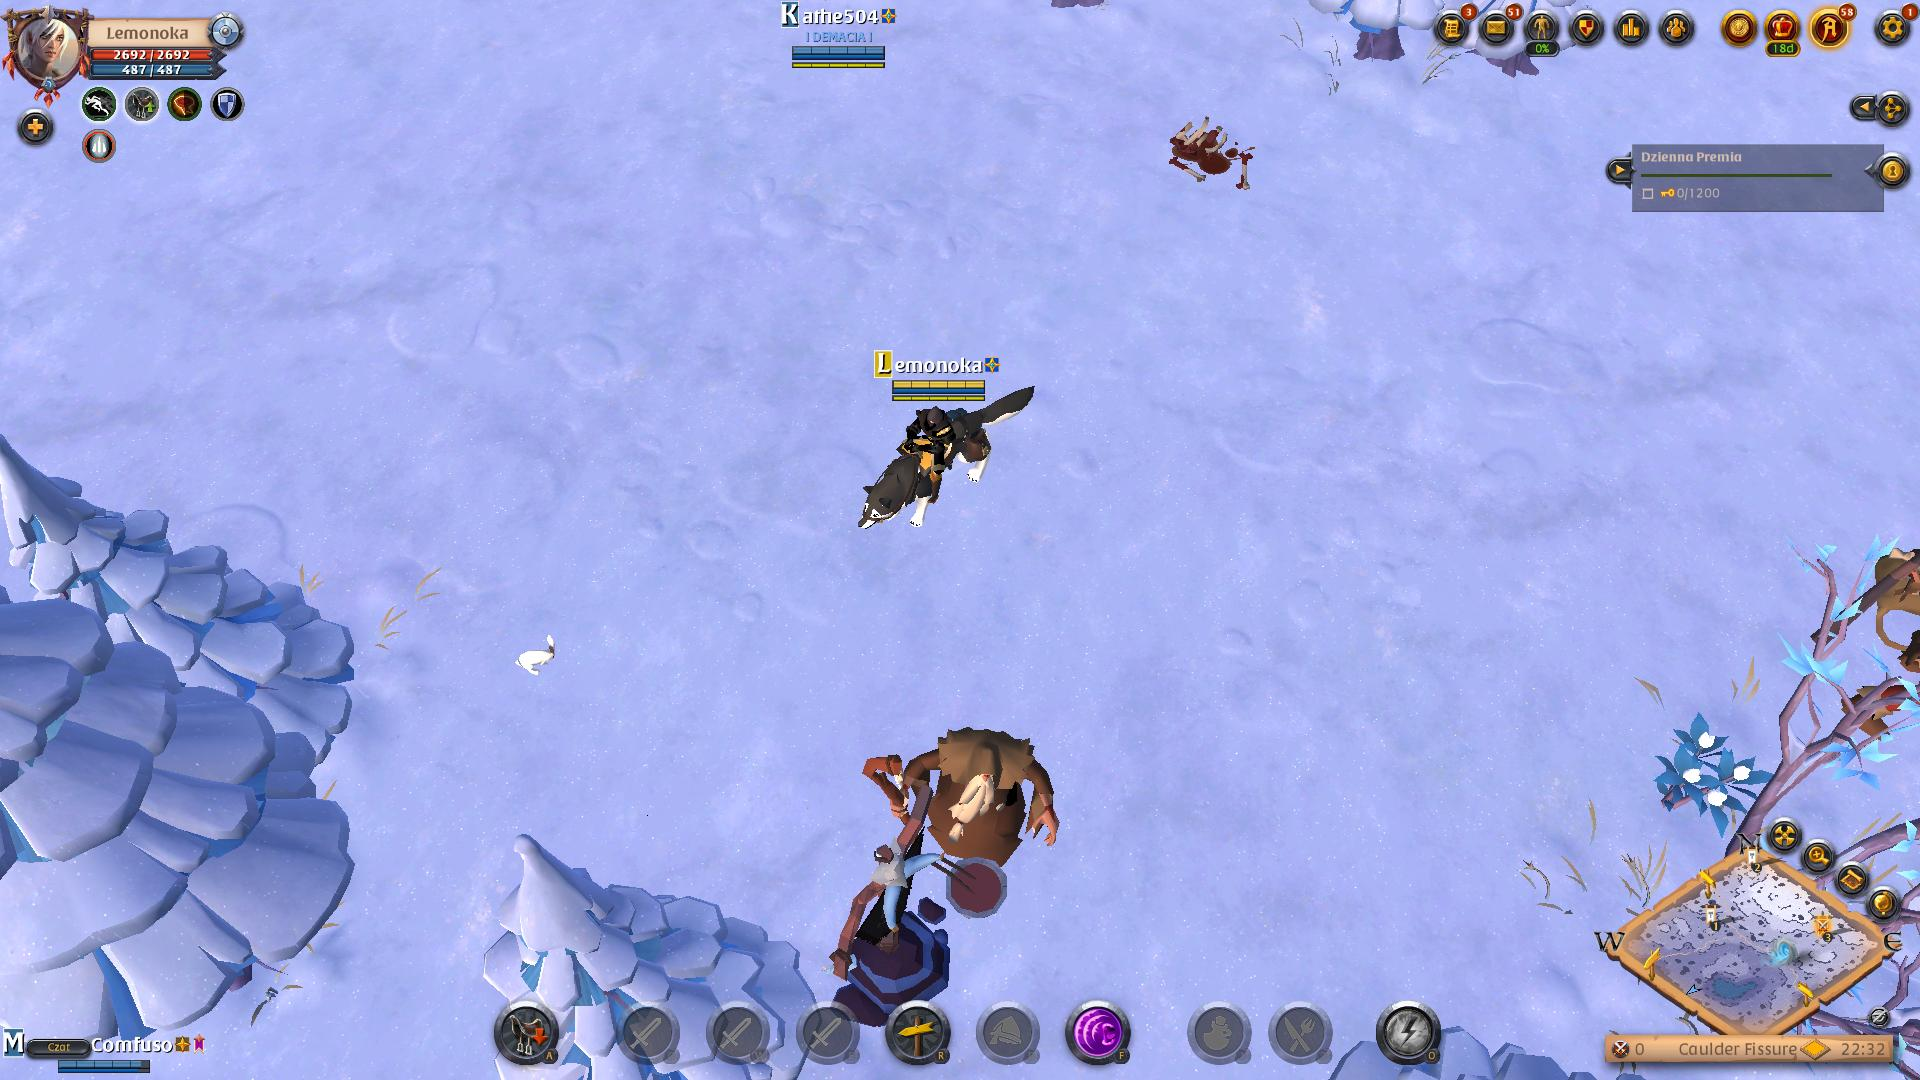fiber tier 4: (1652, 712, 1775, 835)
